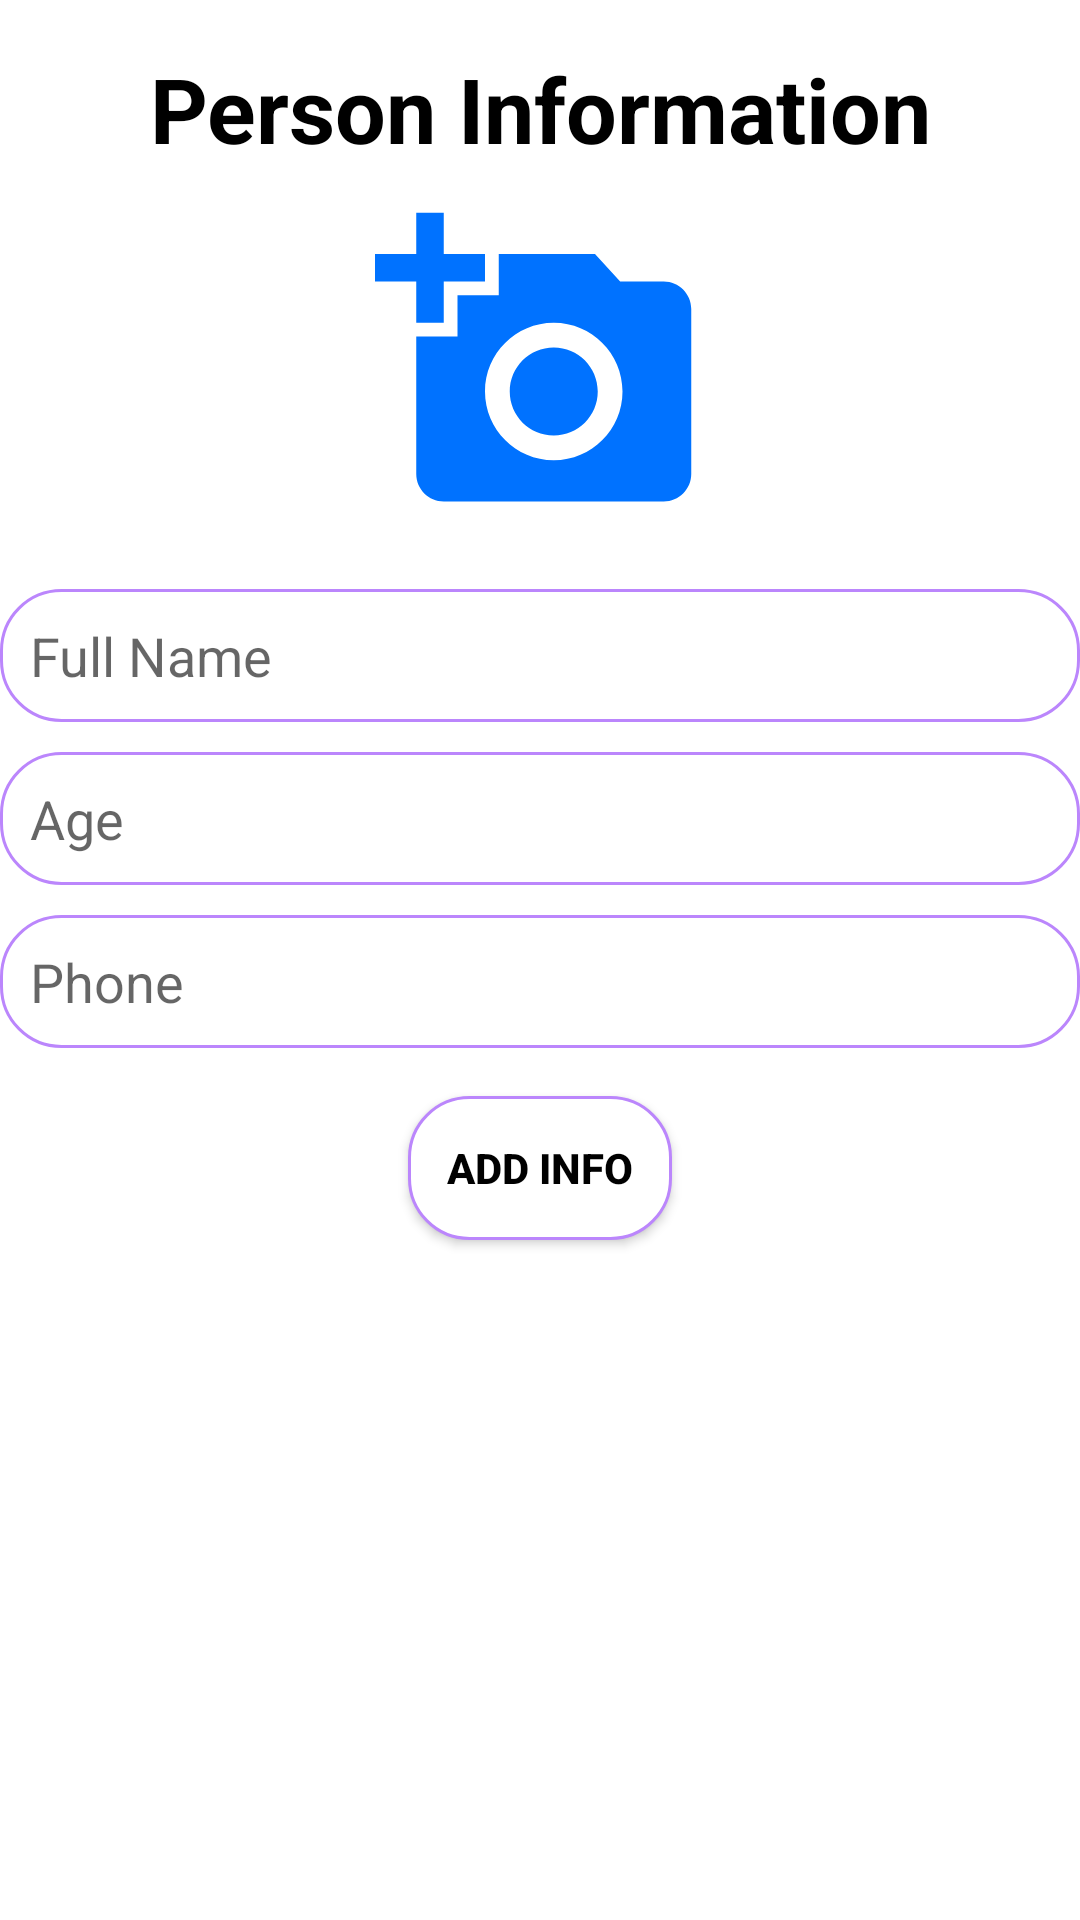

Point at icon controls on the screen. Image size 1080px x 1920px, points as [x,y].
add photo: [533,357]
